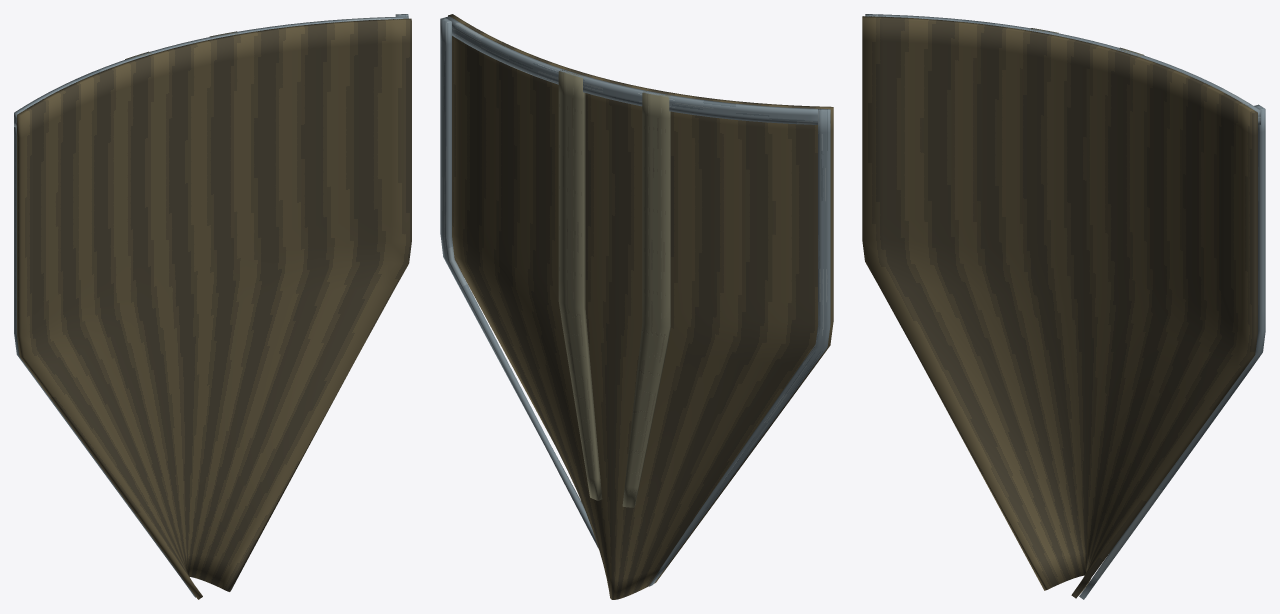
Rendered from shield.glb.
3 views of the same model, side by side, from view 1: azimuth 30°, elevation 25°; view 2: azimuth 150°, elevation 25°; view 3: azimuth 330°, elevation 25° (orthographic). The views are drawn at different scales.
Parts seen in each view (by area): view 1: shield__Way_wood, shield__Way_steel; view 2: shield__Way_wood, shield__Way_linen, shield__Way_steel; view 3: shield__Way_wood, shield__Way_steel.
Boxes of the visible parts, <box> form: shield__Way_wood: <box>17,18,411,599</box>; shield__Way_steel: <box>14,14,408,597</box>; shield__Way_wood: <box>448,14,833,599</box>; shield__Way_linen: <box>558,69,670,507</box>; shield__Way_steel: <box>440,16,830,586</box>; shield__Way_wood: <box>862,16,1257,598</box>; shield__Way_steel: <box>865,14,1265,599</box>.
Bounding box in the file's own units: 0.3923 × 0.5027 × 0.0595.
3 materials, 3 textured.
